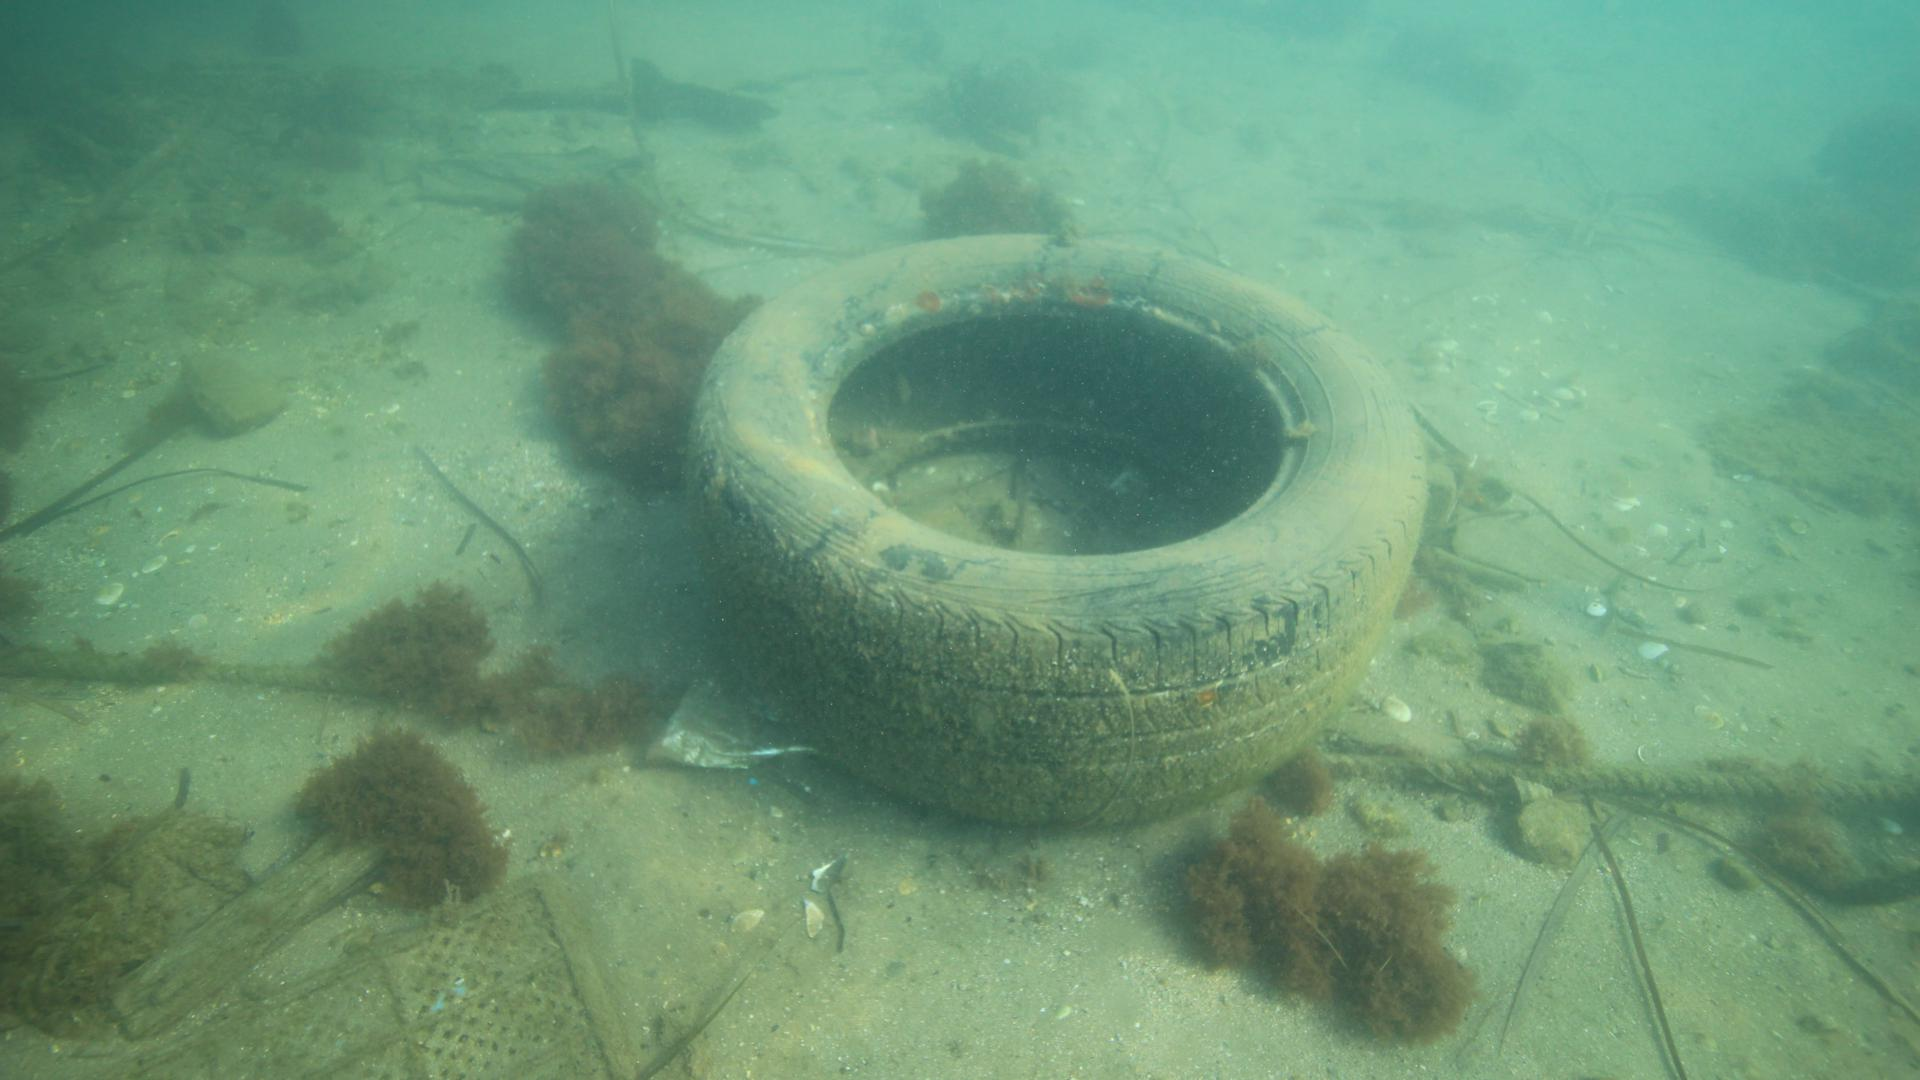rope: (1329, 752, 1920, 808), (0, 644, 396, 695)
tire: (684, 228, 1431, 829)
